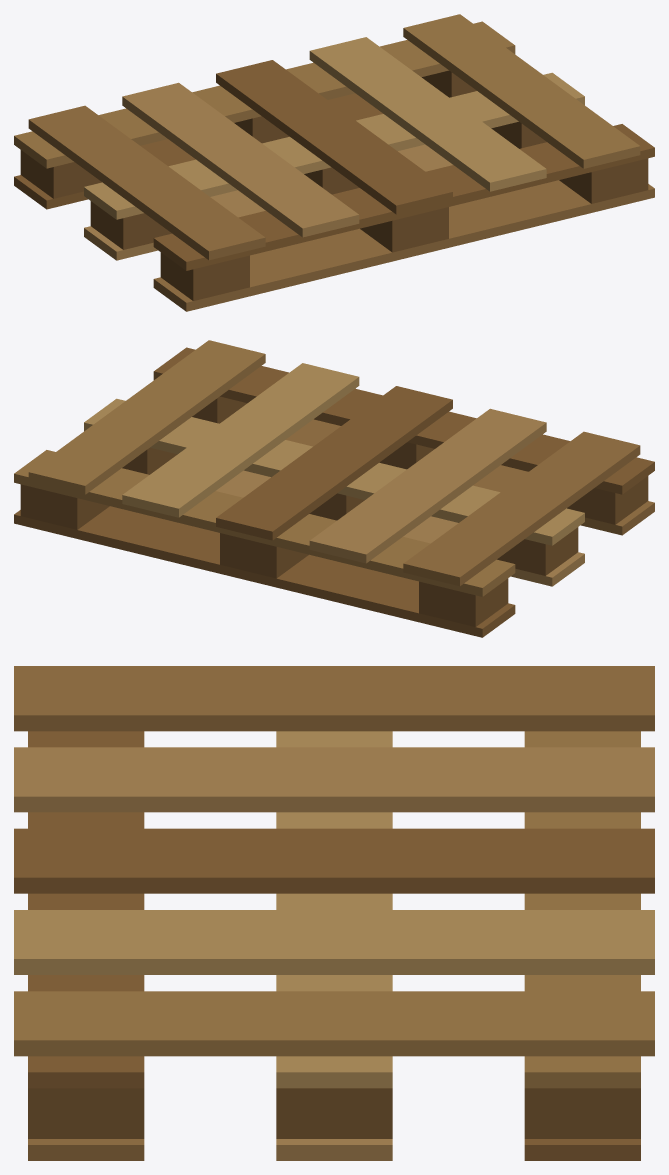
The model's file is pallet.glb.
3 views of the same model, one above another, from view 1: azimuth 30°, elevation 25°; view 2: azimuth 150°, elevation 25°; view 3: azimuth 270°, elevation 25° (orthographic). The views are drawn at different scales.
Visible parts, largest first — view 1: BottomBoard0, TopBoard3, TopBoard0, TopBoard1, TopBoard4, TopBoard2, StringerBoard0, StringerBoard2, StringerBoard1, Block0, BottomBoard1, BottomBoard2 (+8 smaller); view 2: BottomBoard2, TopBoard3, TopBoard0, TopBoard1, TopBoard4, TopBoard2, StringerBoard2, StringerBoard0, StringerBoard1, Block2, BottomBoard0, BottomBoard1 (+8 smaller); view 3: TopBoard0, TopBoard1, TopBoard2, TopBoard4, TopBoard3, StringerBoard1, StringerBoard0, StringerBoard2, Block6, Block7, Block8, BottomBoard0 (+2 smaller).
Boxes of the visible parts, <box> form: BottomBoard0: <box>153,180,654,311</box>; TopBoard3: <box>309,37,546,191</box>; TopBoard0: <box>28,105,265,260</box>; TopBoard1: <box>122,82,359,237</box>; TopBoard4: <box>403,14,640,168</box>; TopBoard2: <box>216,60,452,214</box>; StringerBoard0: <box>153,124,654,270</box>; StringerBoard2: <box>14,21,515,168</box>; StringerBoard1: <box>84,72,584,219</box>; Block0: <box>160,252,249,300</box>; BottomBoard1: <box>84,144,452,260</box>; BottomBoard2: <box>14,93,383,209</box>; BottomBoard2: <box>14,506,515,637</box>; TopBoard3: <box>122,363,359,517</box>; TopBoard0: <box>403,431,640,586</box>; TopBoard1: <box>309,408,546,563</box>; TopBoard4: <box>28,340,265,494</box>; TopBoard2: <box>216,386,452,540</box>; StringerBoard2: <box>14,450,515,596</box>; StringerBoard0: <box>153,347,654,494</box>; StringerBoard1: <box>84,398,584,545</box>; Block2: <box>419,578,508,626</box>; BottomBoard0: <box>285,419,654,535</box>; BottomBoard1: <box>216,470,584,586</box>; TopBoard0: <box>14,666,654,731</box>; TopBoard1: <box>14,747,654,812</box>; TopBoard2: <box>14,828,654,893</box>; TopBoard4: <box>14,991,654,1056</box>; TopBoard3: <box>14,910,654,974</box>; StringerBoard1: <box>276,731,392,1088</box>; StringerBoard0: <box>28,731,144,1088</box>; StringerBoard2: <box>524,731,640,1088</box>; Block6: <box>28,1088,144,1138</box>; Block7: <box>276,1088,392,1138</box>; Block8: <box>524,1088,640,1138</box>; BottomBoard0: <box>28,1139,144,1160</box>.
Size of the model in its own units: 1.2 by 0.144 by 0.8.
